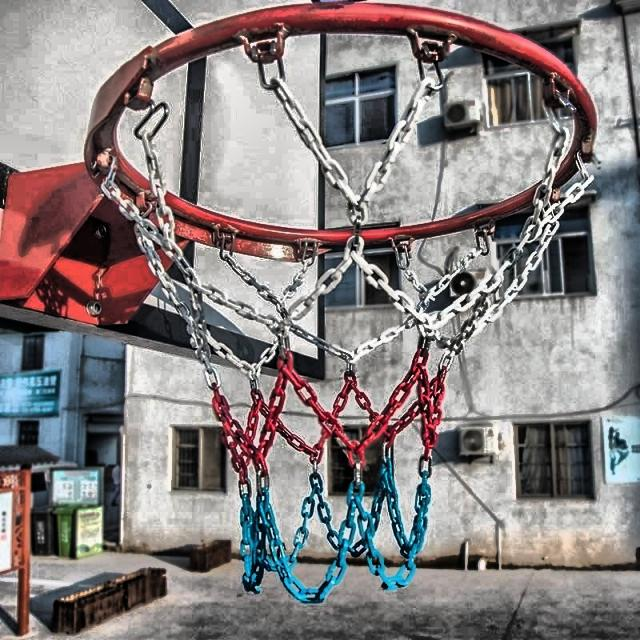rim: (80, 1, 602, 598)
